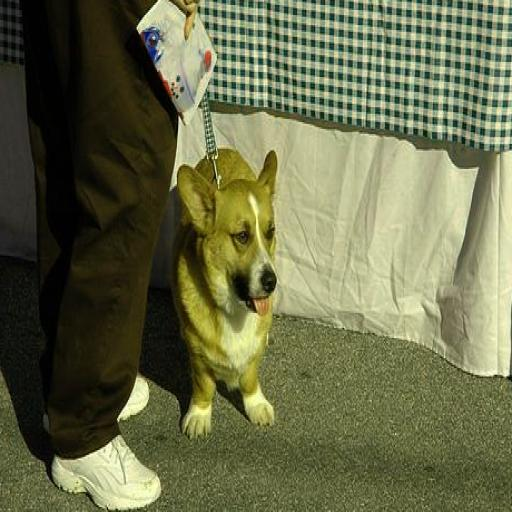dog_face: (178, 150, 282, 310)
